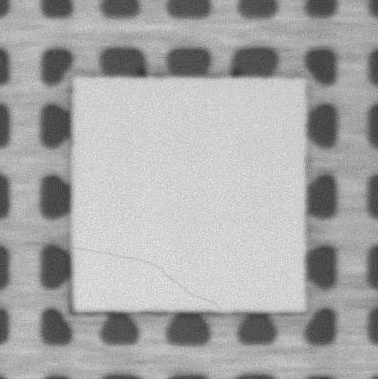DIE_CRACK: (73, 246, 219, 308)
